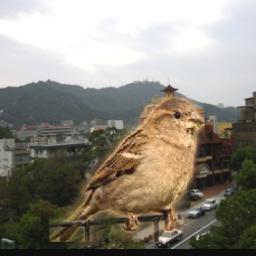Sparrow: (48, 99, 203, 243)
